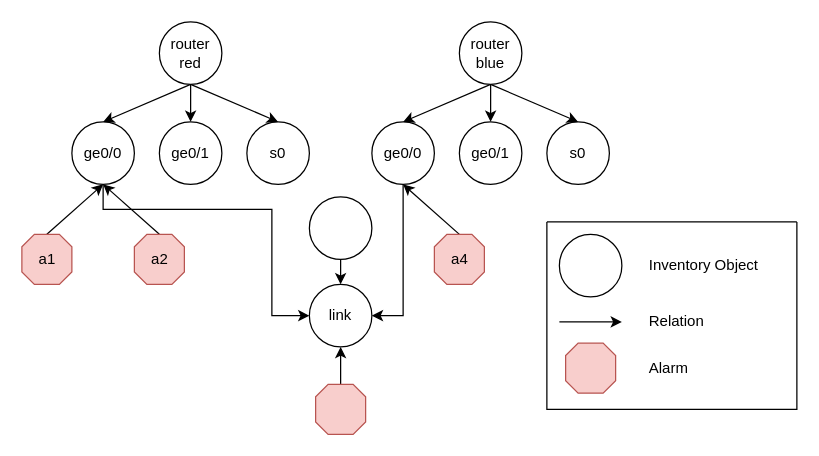
The diagram is 819 pixels wide and 456 high, and some of its shapes have lost their labels. Each missing label, with the centre of its shape:
"a3" goes at point 340,408.
"ipsla" goes at point 340,227.
